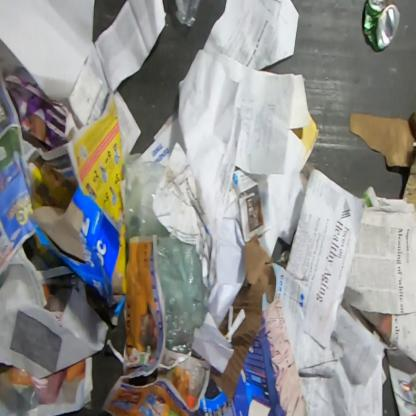cardboard: (26, 184, 127, 328), (209, 232, 276, 400), (4, 68, 78, 150), (348, 111, 416, 169), (66, 61, 102, 126), (290, 108, 320, 173), (401, 150, 416, 212), (218, 311, 229, 336)
metal: (363, 0, 401, 52)
soft_plastic: (122, 149, 211, 355), (174, 0, 202, 29)
